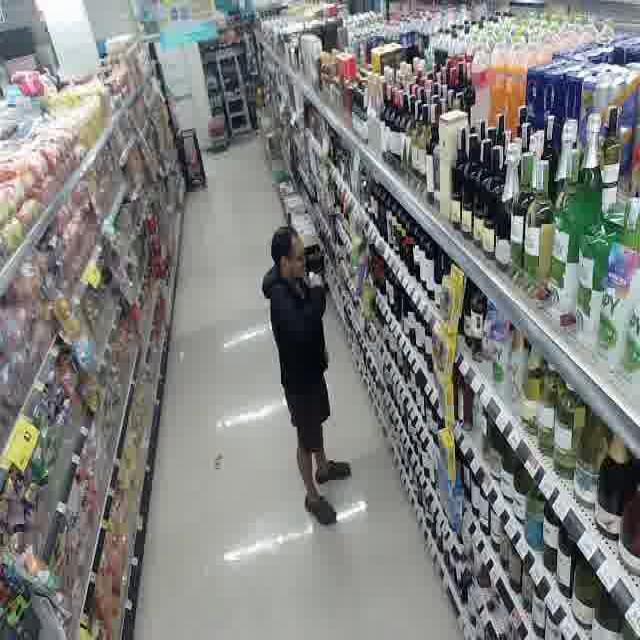shoplifting: (241, 191, 374, 539)
